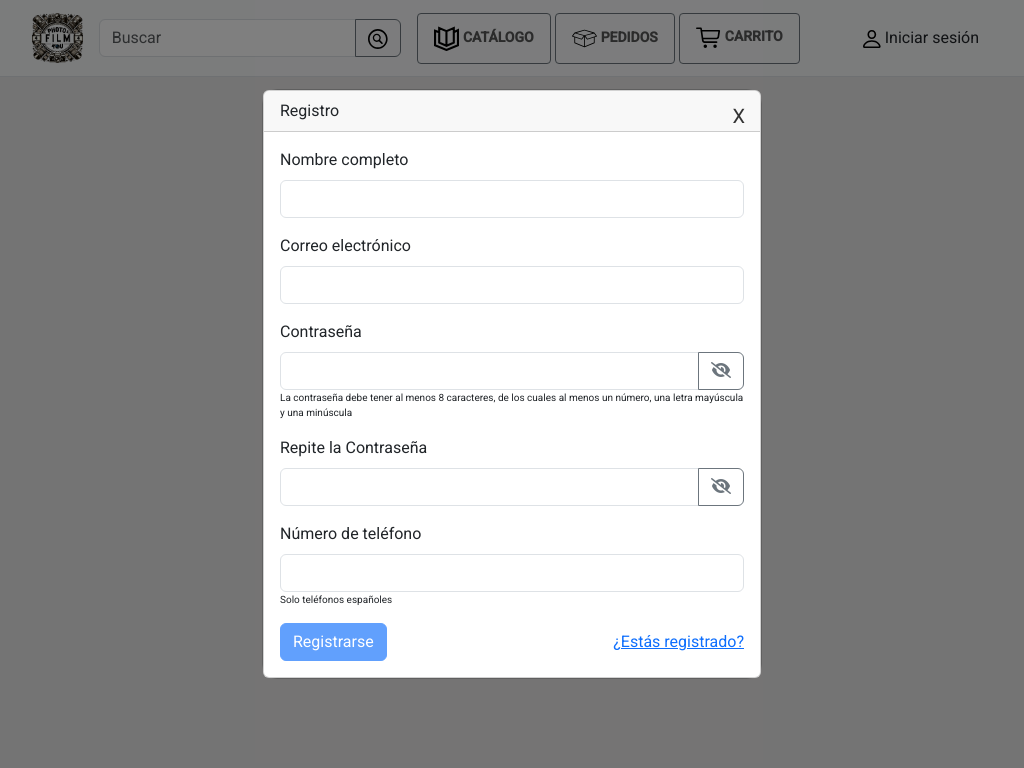
Test: Register Network Requests › Fill form with invalid data › should display warning for invalid name
The width and height of the screenshot is (1024, 768).
# Insert incorrect name that triggers the 'pattern' error
Type "12345" into the field with id "fullName" at (512, 199), box x1=280 y1=180 x2=744 y2=218
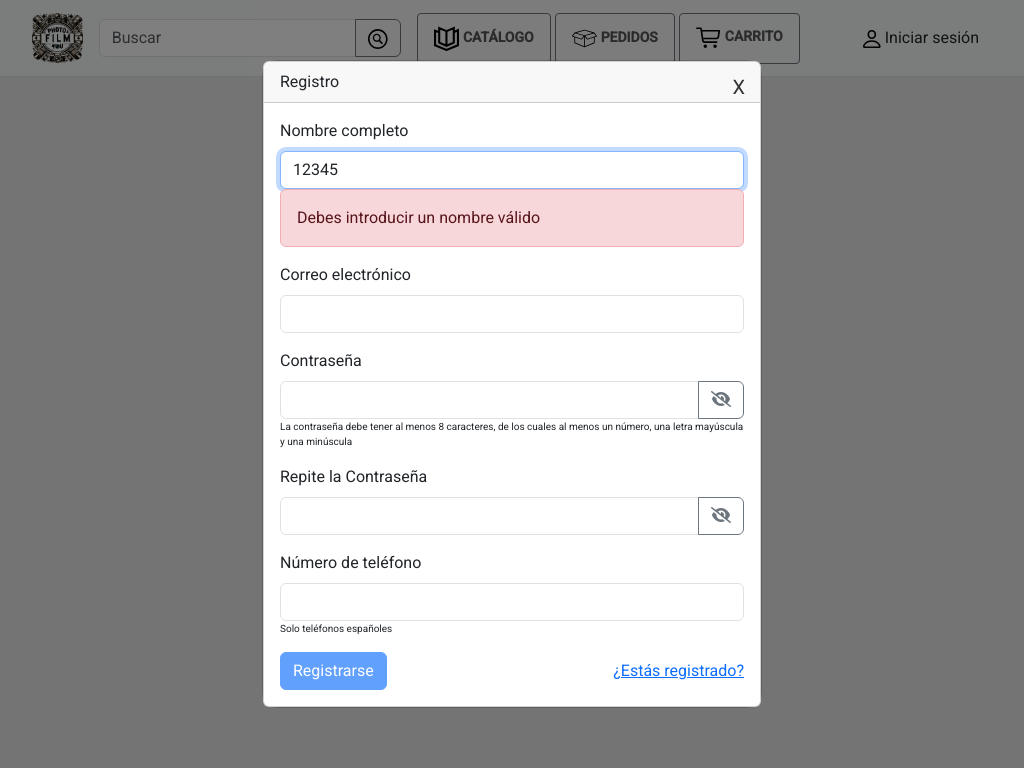
Now the text "Debes introducir un nombre válido" is shown, box x1=280 y1=189 x2=744 y2=247
